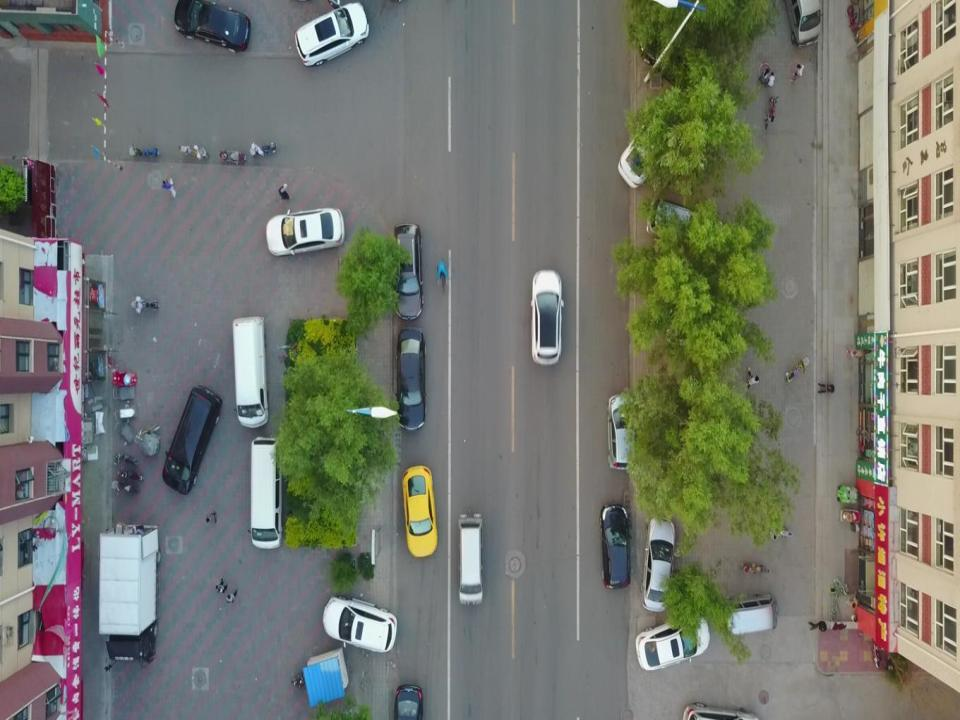car: (294, 6, 380, 66), (170, 0, 264, 51), (631, 616, 712, 668), (327, 599, 398, 653), (264, 211, 350, 255), (617, 122, 677, 185), (647, 202, 721, 248), (532, 270, 564, 370), (401, 470, 436, 552), (395, 223, 424, 321), (602, 502, 632, 591), (460, 509, 485, 615), (398, 329, 424, 426), (644, 517, 670, 611), (608, 395, 630, 474), (391, 683, 422, 720)
truck: (96, 527, 164, 668)
van: (167, 383, 218, 493), (246, 436, 284, 552), (230, 316, 269, 422), (725, 597, 776, 635), (786, 0, 823, 49), (113, 448, 141, 492)
